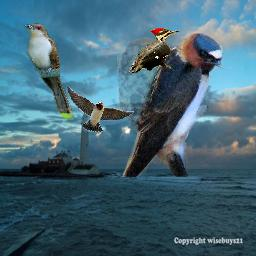Cuckoo: (24, 23, 74, 120)
Swallow: (117, 31, 223, 177), (66, 85, 134, 132)
Woodpecker: (129, 28, 181, 73)
